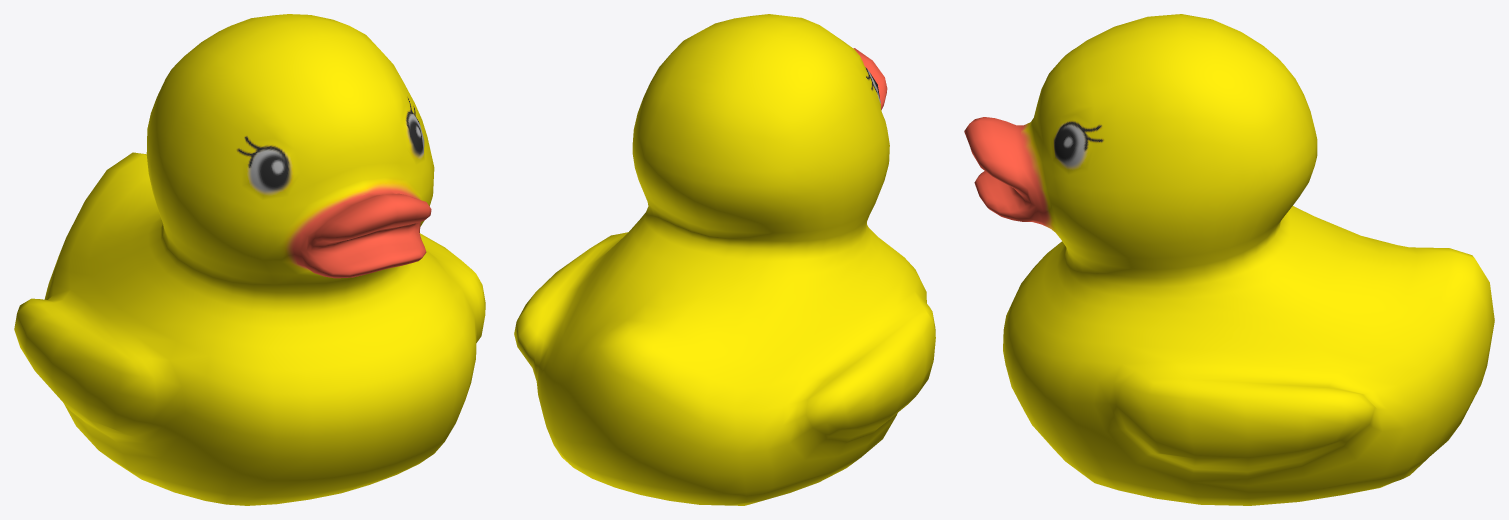
The picture shows the model from 3 angles, left to right: view 1: azimuth 30°, elevation 25°; view 2: azimuth 150°, elevation 25°; view 3: azimuth 270°, elevation 25°; orthographic projection. The views are drawn at different scales.
Visible parts, largest first — view 1: ducky; view 2: ducky; view 3: ducky.
Part boxes in pixels (left/top/right/bottom): ducky: left=14, top=14, right=485, bottom=505; ducky: left=514, top=14, right=935, bottom=505; ducky: left=964, top=14, right=1494, bottom=505.
Size of the model in its own units: 0.1169 by 0.1247 by 0.1402.
1 material, 1 textured.
